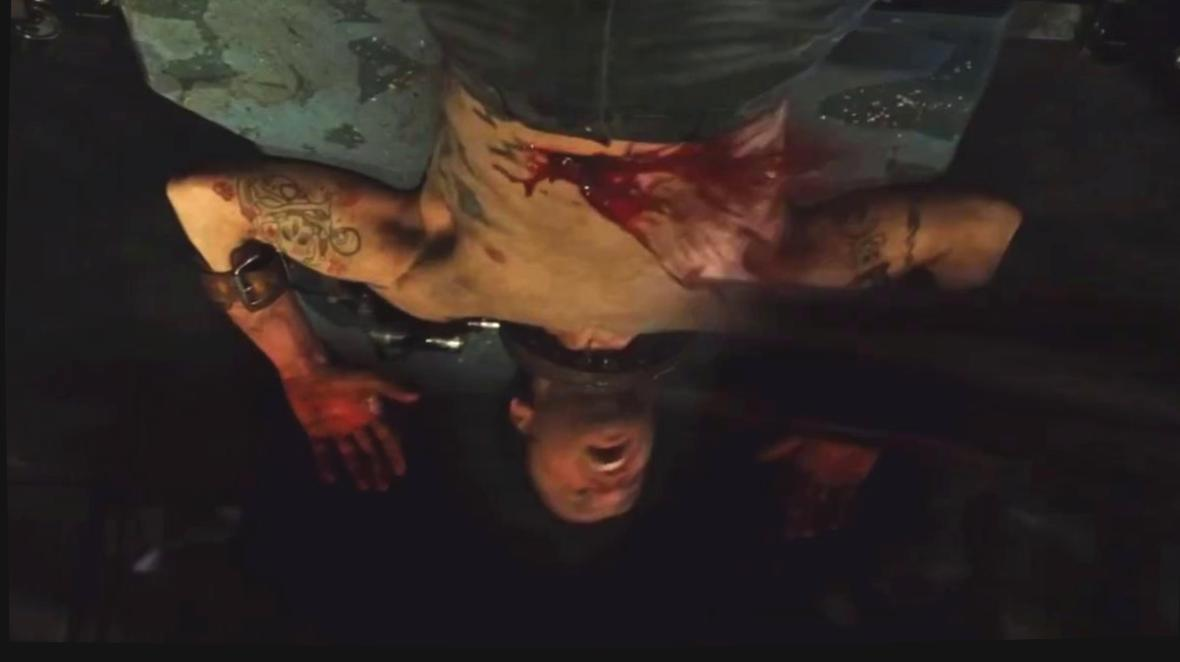Fire: (489, 109, 791, 291)
